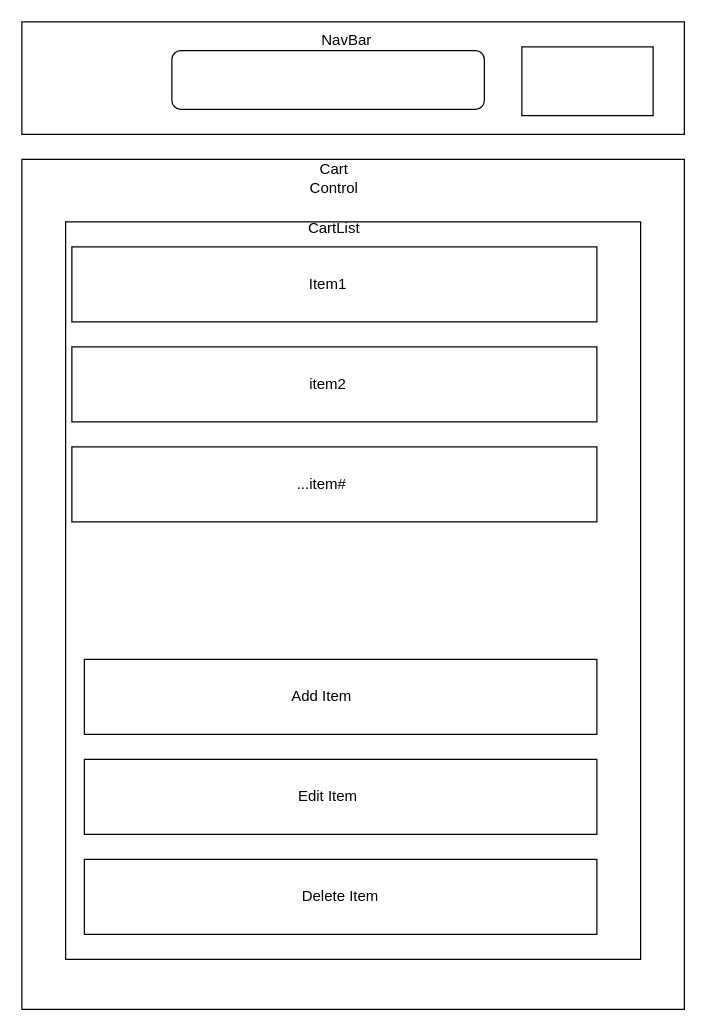
Image size: 706x1031. Some labels were removed from this diagram. Each missing label, with the box of its shape:
Header: (171, 49, 484, 109)
Widget Shows quantity links to CartList: (521, 46, 653, 116)
